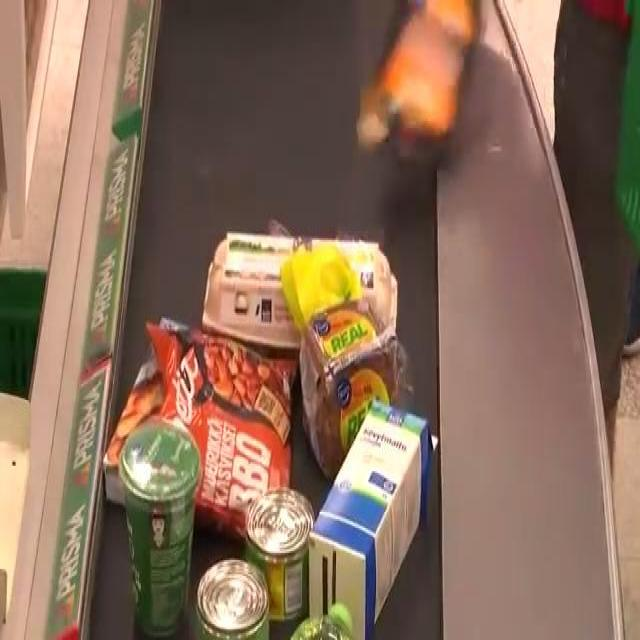beverage: (305, 406, 439, 618)
food-box: (124, 314, 302, 534), (204, 237, 392, 331), (301, 303, 405, 449), (132, 432, 204, 640), (252, 484, 316, 608), (196, 557, 278, 639)
